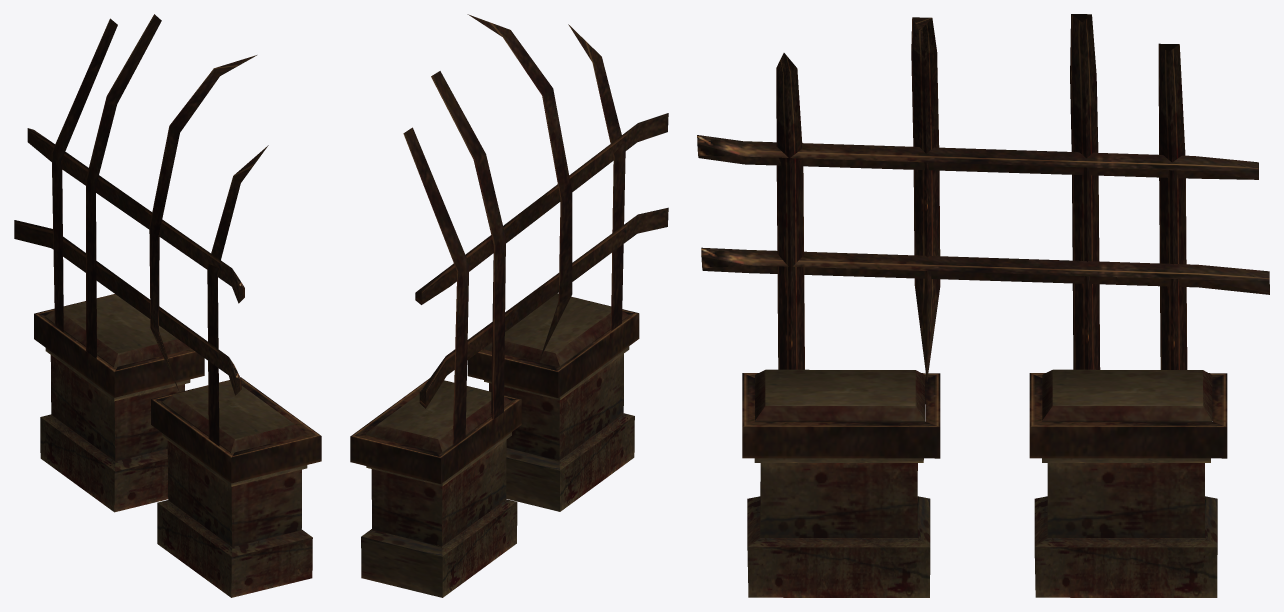
The model's file is rysd_jiazi_01.FBX.
The picture shows the model from 3 angles, left to right: view 1: azimuth 30°, elevation 25°; view 2: azimuth 150°, elevation 25°; view 3: azimuth 270°, elevation 25°; orthographic projection. The views are drawn at different scales.
Visible parts, largest first — view 1: langan; view 2: langan; view 3: langan.
Part boxes in pixels (box(x1,y1,x2,y2)): langan: box(14, 14, 321, 597); langan: box(350, 14, 668, 597); langan: box(697, 14, 1269, 597).
Bounding box in the file's own units: 84.24 × 338 × 304.
